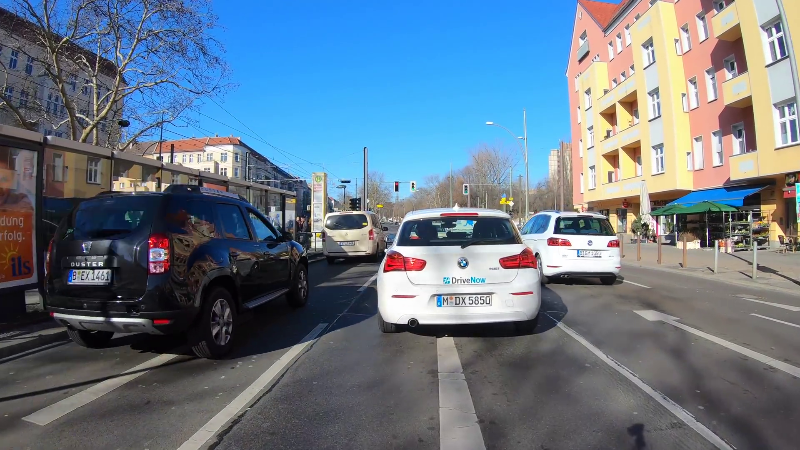Plate: (436, 293, 491, 305), (65, 269, 112, 281), (574, 249, 603, 258)
